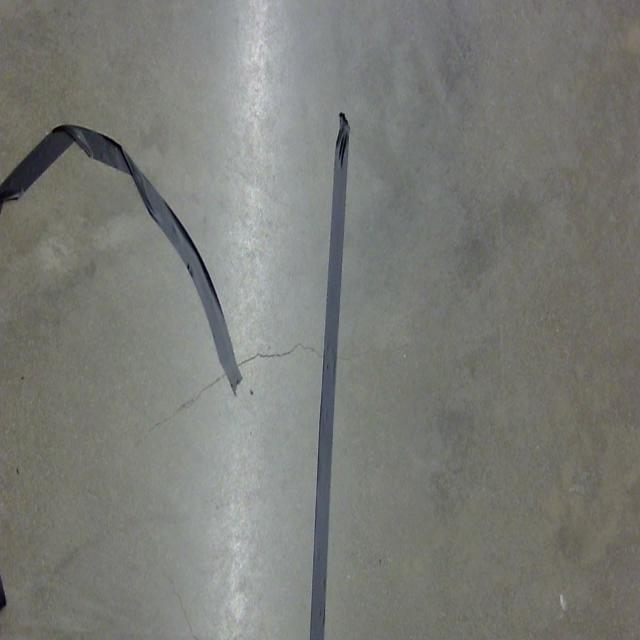tape: (0, 120, 245, 393), (308, 111, 351, 640)
